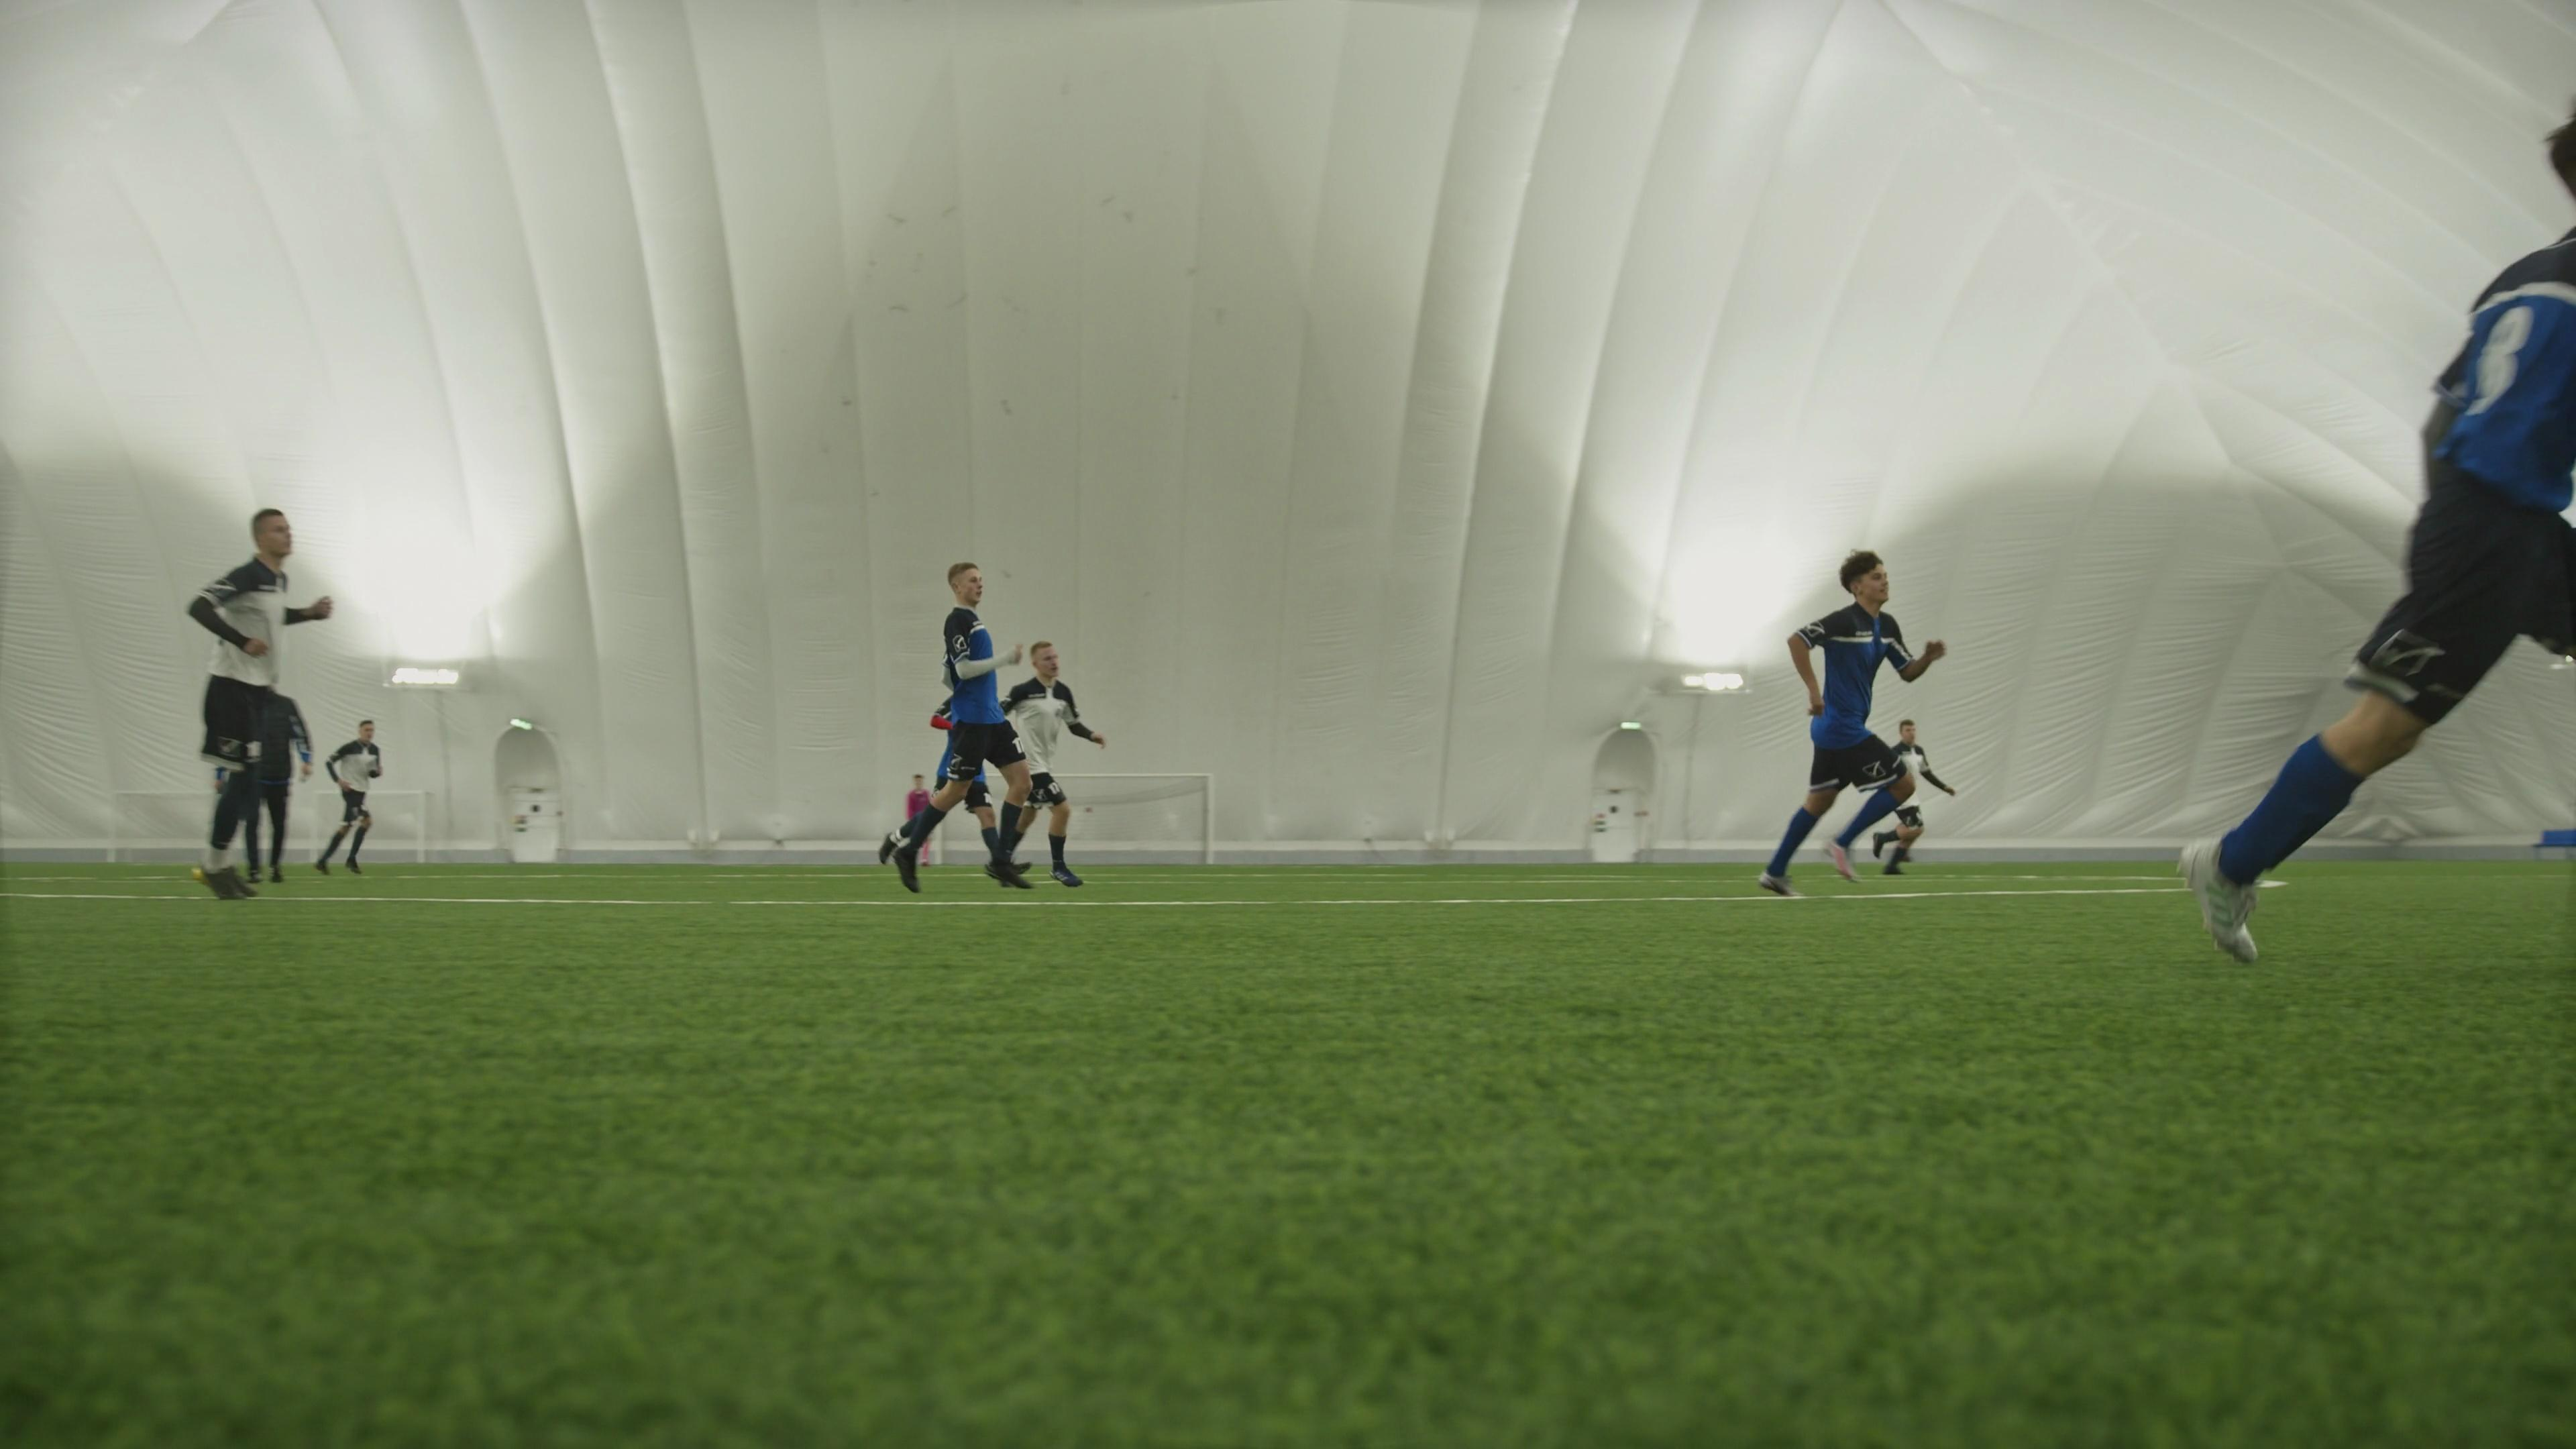team1: (2183, 103, 2574, 966), (879, 561, 1088, 899), (1759, 550, 1951, 892)
team1gk: (908, 766, 934, 872)
team2: (186, 504, 333, 893), (996, 640, 1104, 901), (1867, 715, 1964, 862), (313, 718, 384, 879)
